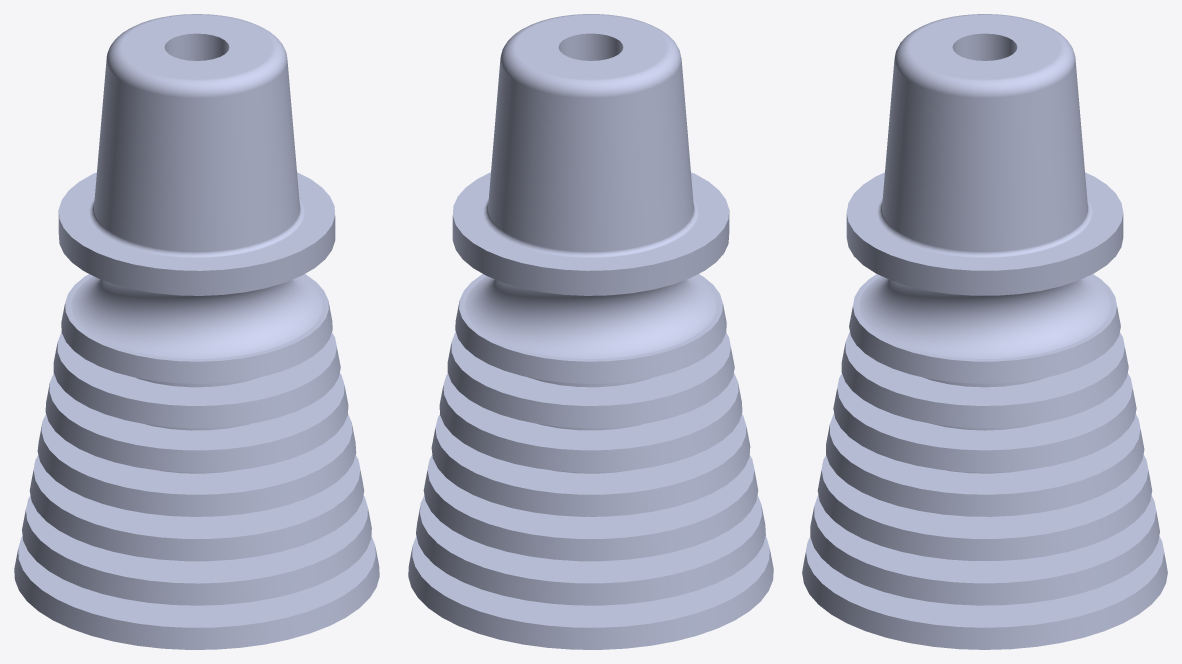
The model's file is Post 1.125' Concentric Fin (C-952-7).fbx.
3 views of the same model, side by side, from view 1: azimuth 30°, elevation 25°; view 2: azimuth 150°, elevation 25°; view 3: azimuth 270°, elevation 25° (orthographic).
Parts seen in each view (by area): view 1: Post 1.125' Concentric Fin (C-952-7); view 2: Post 1.125' Concentric Fin (C-952-7); view 3: Post 1.125' Concentric Fin (C-952-7).
Part boxes in pixels (<box>): Post 1.125' Concentric Fin (C-952-7): <box>14,14,379,649</box>; Post 1.125' Concentric Fin (C-952-7): <box>408,14,773,649</box>; Post 1.125' Concentric Fin (C-952-7): <box>802,14,1167,649</box>.
Size of the model in its own units: 1.85 by 2.93 by 1.85.
